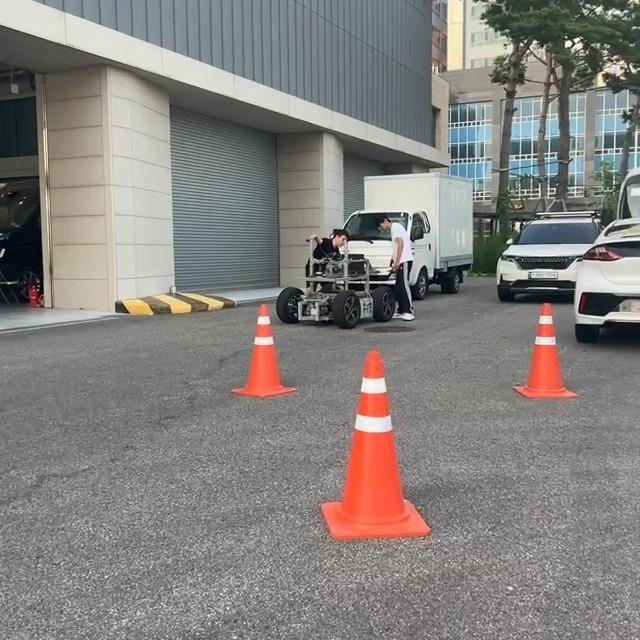fallen_object: (316, 321, 443, 538), (470, 275, 589, 427), (227, 302, 323, 417)
